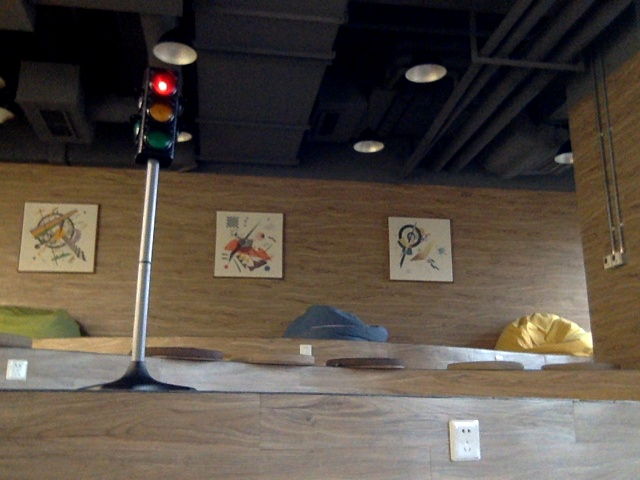red: (140, 70, 179, 153)
